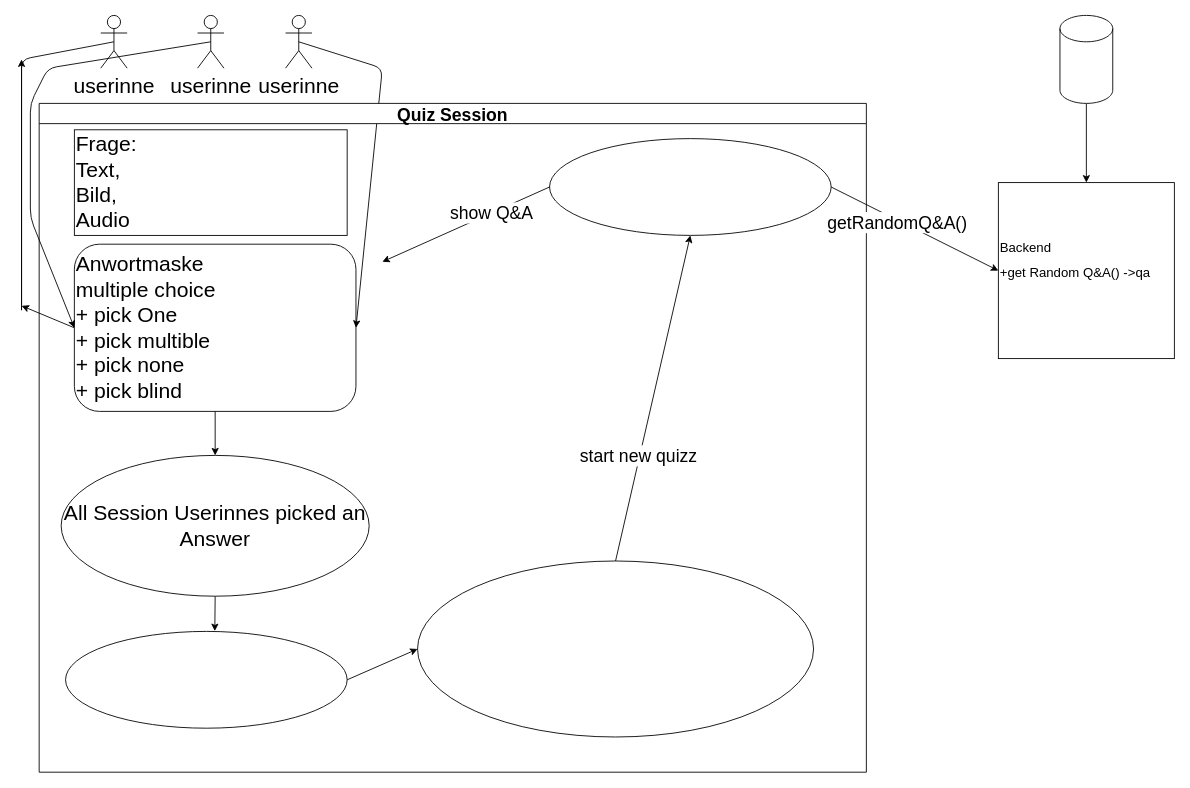
The diagram is 1190 pixels wide and 788 high, and some of its shapes have lost their labels. The centre of each missing label's shape, as x and y in pixels:
Apply Changes to userinnes to clear gui to present reslut and then clear: the point at 615,648
q+a table: the point at 1086,59
Start Session: the point at 690,186
Validate Answers: the point at 206,679
